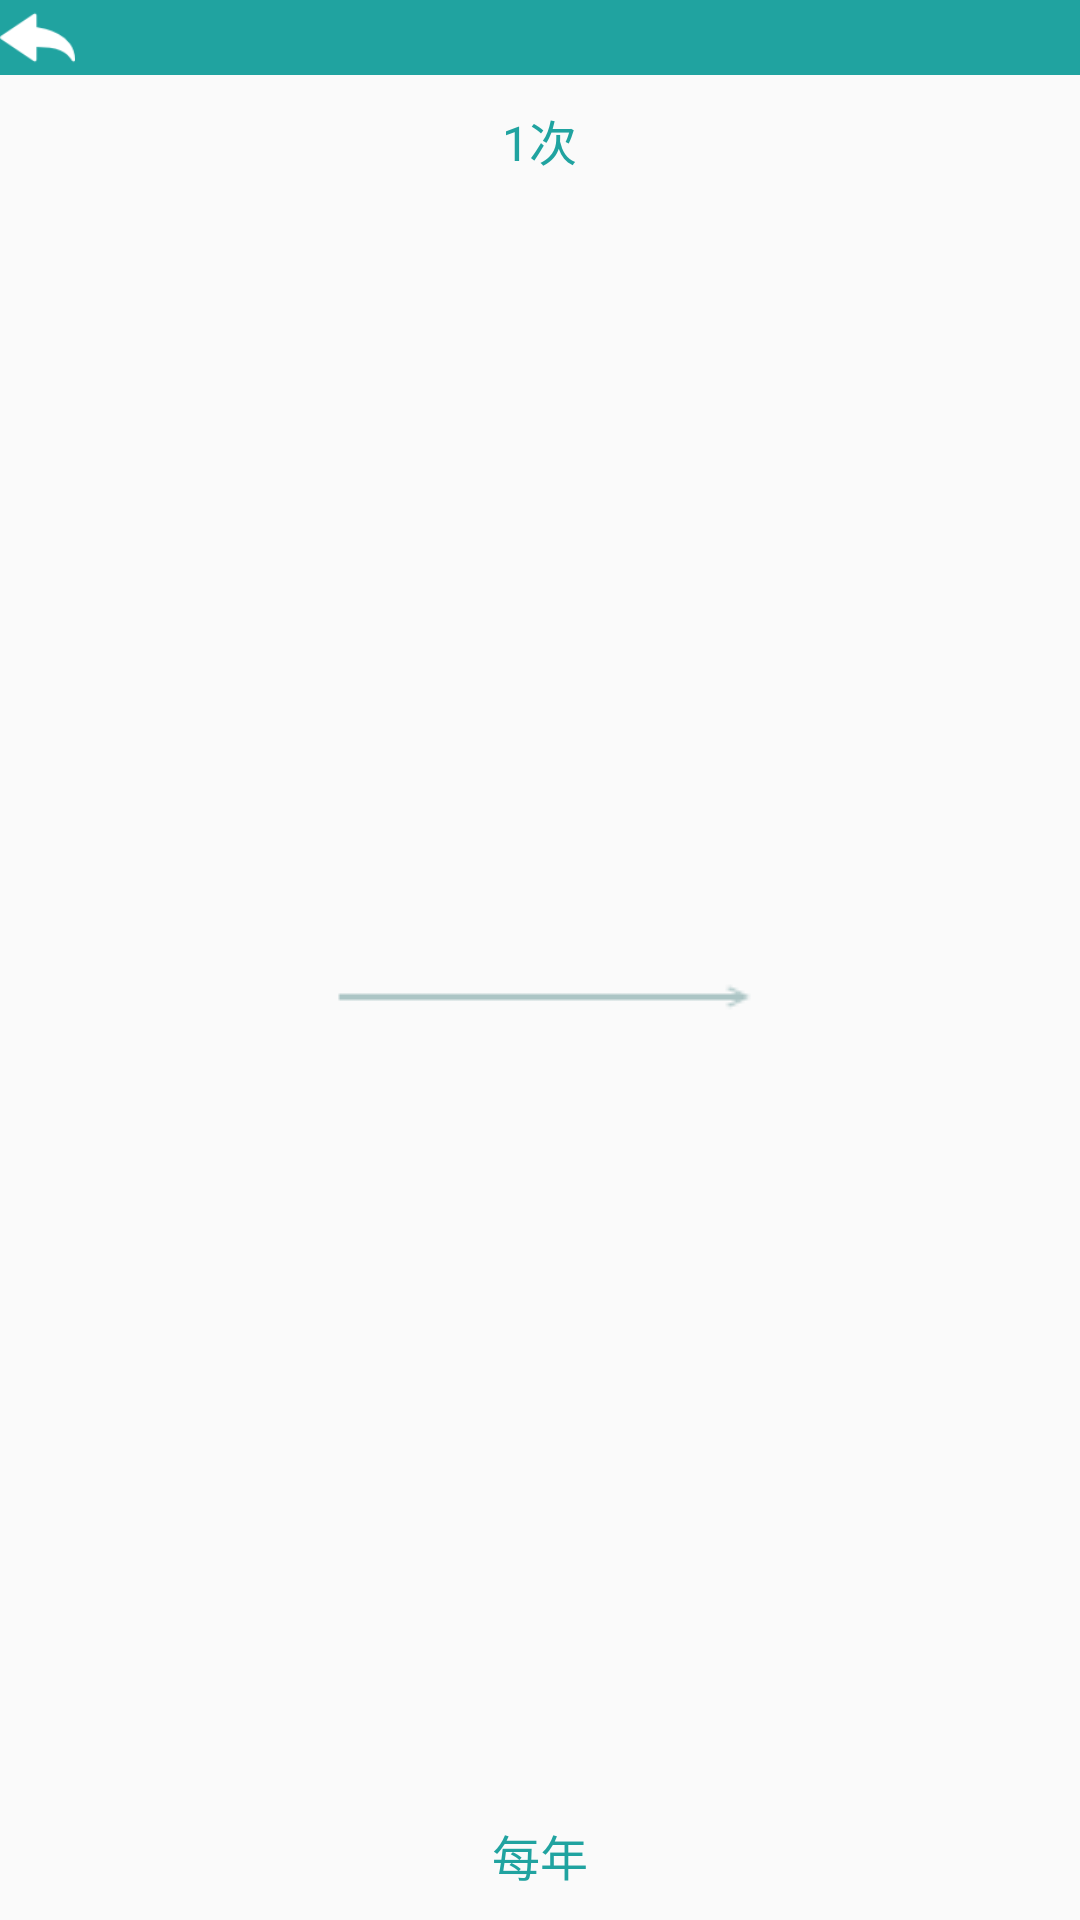

Icon click points for this 1080x1920 phone screenshot, format point (x, y):
back: point (37, 37)
